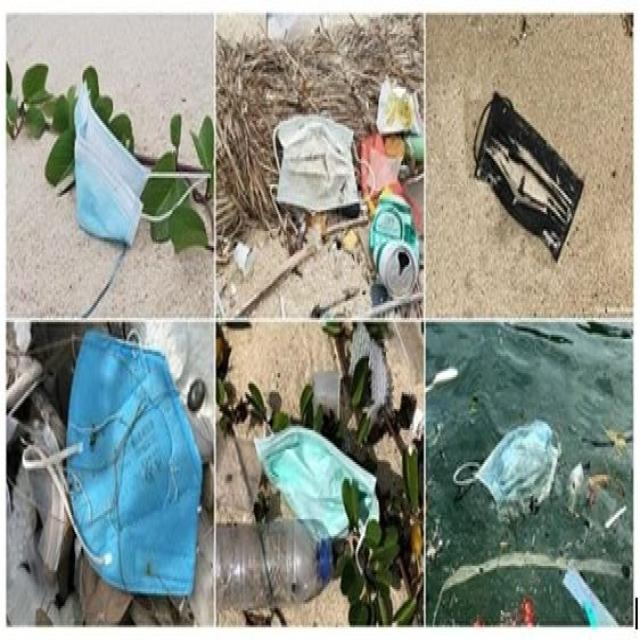non-organic waste: (28, 328, 202, 596), (73, 83, 209, 250), (475, 87, 583, 265), (262, 417, 380, 551), (449, 409, 557, 521), (271, 108, 378, 210)
